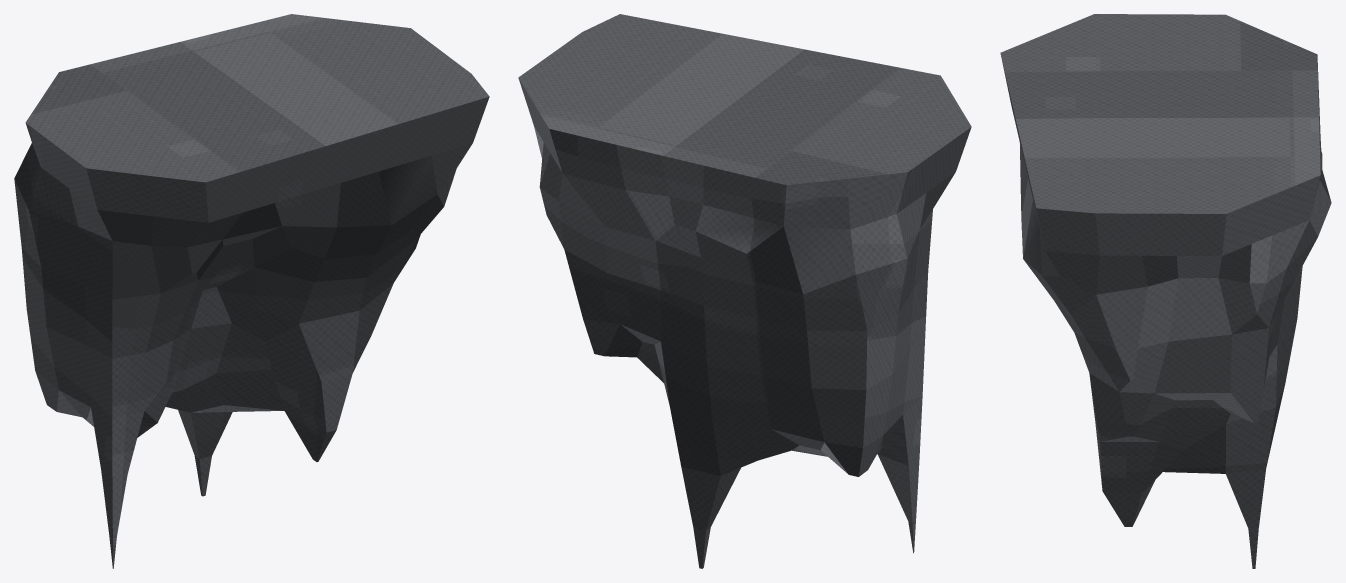
The model's file is GardenFoundationIsland.fbx.
The picture shows the model from 3 angles, left to right: view 1: azimuth 30°, elevation 25°; view 2: azimuth 150°, elevation 25°; view 3: azimuth 270°, elevation 25°; orthographic projection. The views are drawn at different scales.
Parts seen in each view (by area): view 1: GardenFoundation.001; view 2: GardenFoundation.001; view 3: GardenFoundation.001.
Boxes of the visible parts, <box> form: GardenFoundation.001: <box>14,14,489,568</box>; GardenFoundation.001: <box>518,14,971,568</box>; GardenFoundation.001: <box>1000,14,1331,568</box>.
Bounding box in the file's own units: 8675 × 9195 × 6071.
